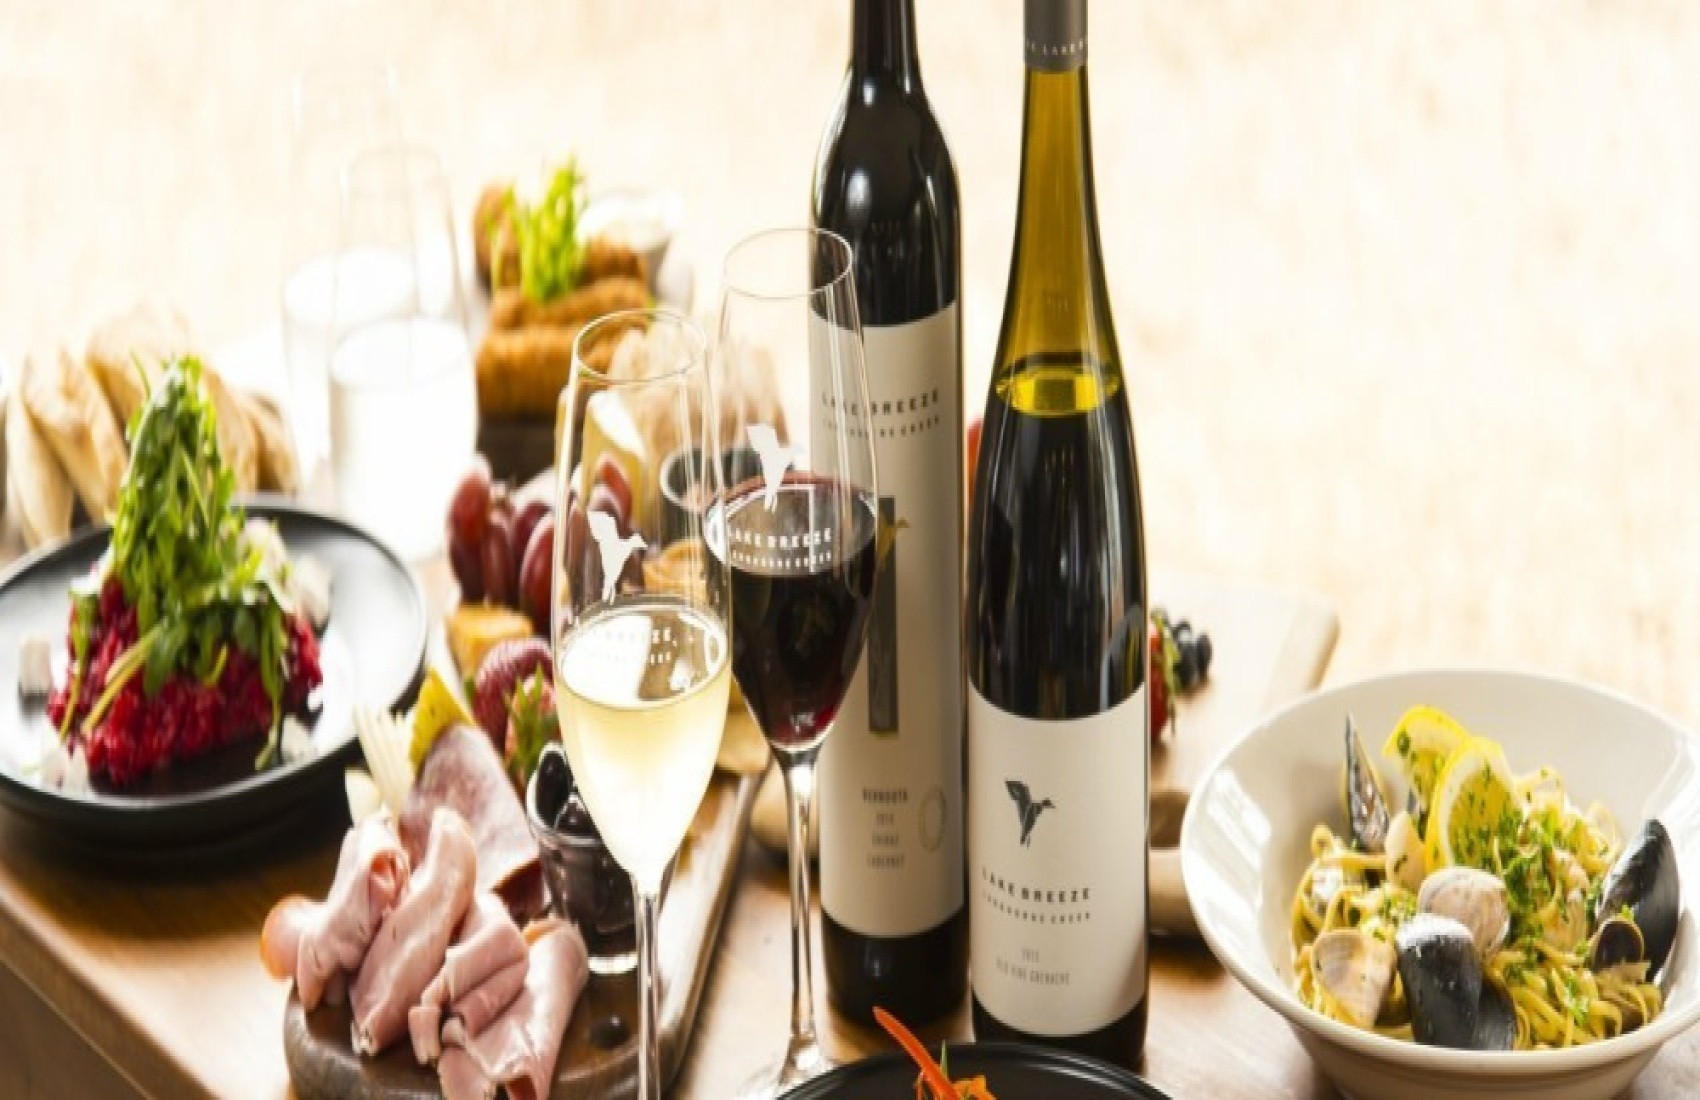wine: (968, 71, 1142, 1041), (805, 31, 980, 1000)
